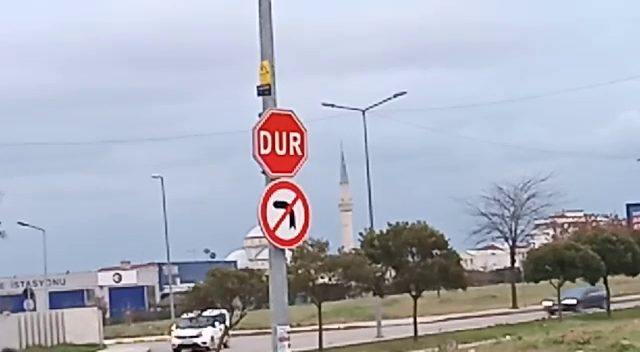no_left: (255, 177, 313, 251)
stop: (249, 106, 310, 180)
